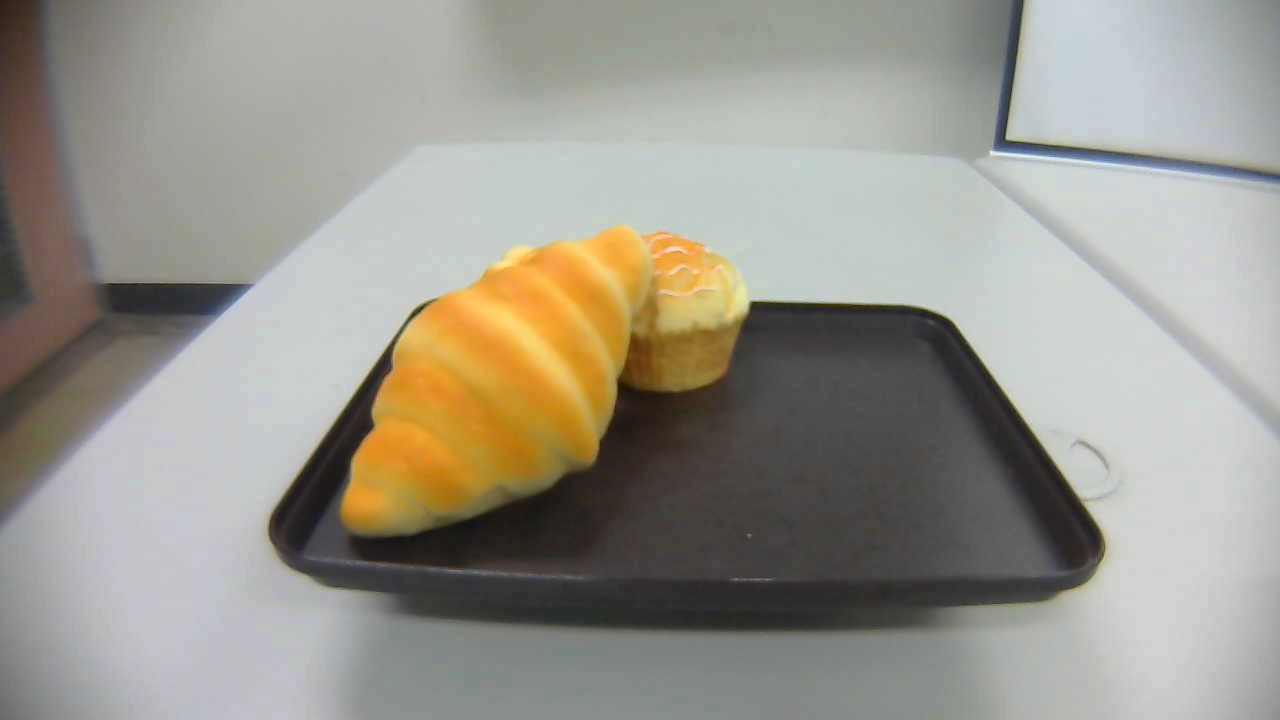croissant: (336, 225, 652, 542)
cupcake: (623, 232, 750, 397)
